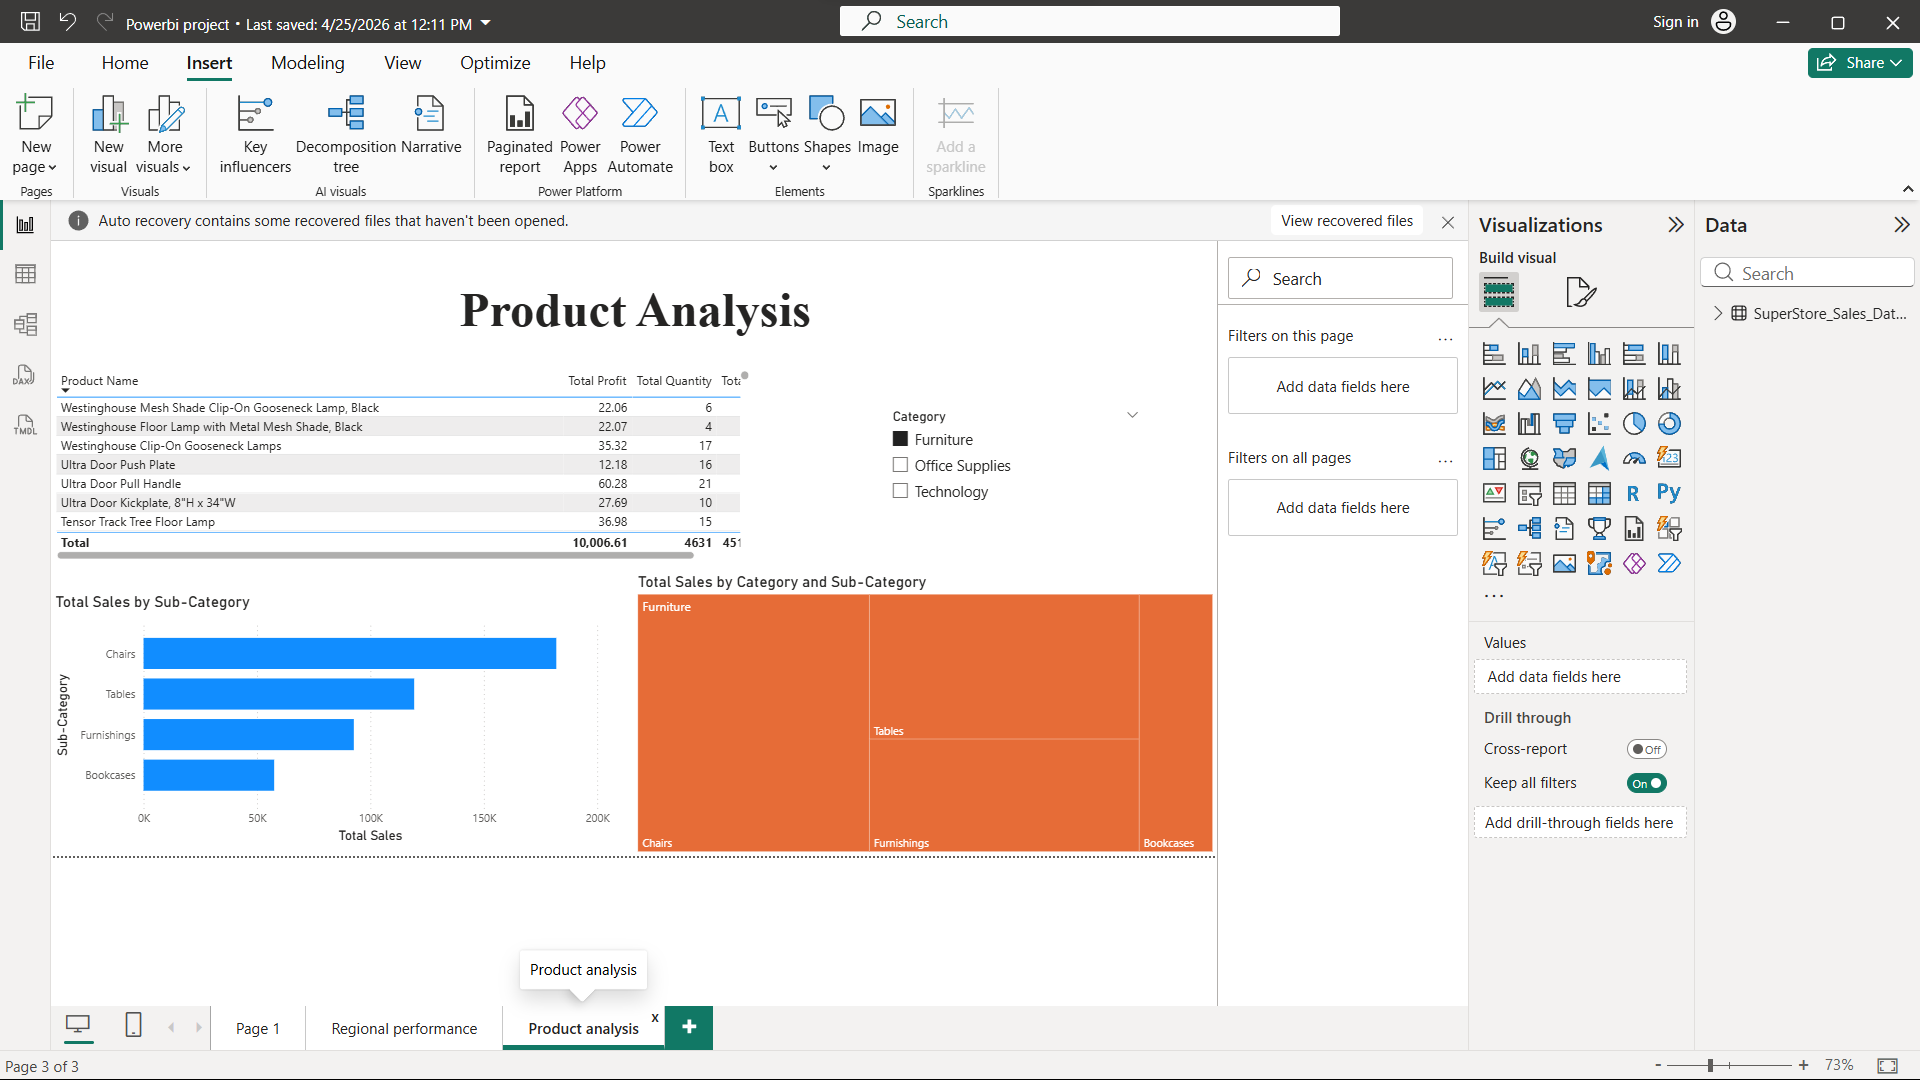

The dashboard page shown, as its layout file describes it:
{"tool":"powerbi","page":{"name":"Product analysis","canvas":[1280,720],"ordinal":2},"visuals":[{"type":"clusteredBarChart","fields":{"Category":["SuperStore_Sales_Dataset.Sub-Category"],"Y":["SuperStore_Sales_Dataset.Total Sales"]},"box":[0,430.9,618.9,279.9],"z":0},{"type":"treemap","fields":{"Group":["SuperStore_Sales_Dataset.Category"],"Details":["SuperStore_Sales_Dataset.Sub-Category"],"Values":["SuperStore_Sales_Dataset.Total Sales"]},"box":[639.5,408.9,640.8,311.5],"z":1000},{"type":"tableEx","fields":{"Values":["SuperStore_Sales_Dataset.Product Name","SuperStore_Sales_Dataset.Total Profit","SuperStore_Sales_Dataset.Total Quantity","SuperStore_Sales_Dataset.Total Sales"]},"box":[0,182.5,771.2,216.8],"z":2000},{"type":"slicer","fields":{"Values":["SuperStore_Sales_Dataset.Category"]},"box":[911.2,223.7,295,157.8],"z":3000},{"type":"textbox","box":[310.1,85.1,640.8,86.4],"z":4000}]}

Visuals, with their boxes on the page's 1280x720 design canvas (x1, y1, x2, y2). These are canvas units, not pixel positions in the 1920x1080 screenshot, which may show the page scaled, cropped or inside an application window:
clusteredBarChart - SuperStore_Sales_Dataset.Sub-Category x SuperStore_Sales_Dataset.Total Sales: (left=0, top=431, right=619, bottom=711)
treemap - SuperStore_Sales_Dataset.Category x SuperStore_Sales_Dataset.Sub-Category: (left=640, top=409, right=1280, bottom=720)
tableEx - SuperStore_Sales_Dataset.Product Name x SuperStore_Sales_Dataset.Total Profit: (left=0, top=182, right=771, bottom=399)
slicer - SuperStore_Sales_Dataset.Category: (left=911, top=224, right=1206, bottom=382)
textbox: (left=310, top=85, right=951, bottom=172)
